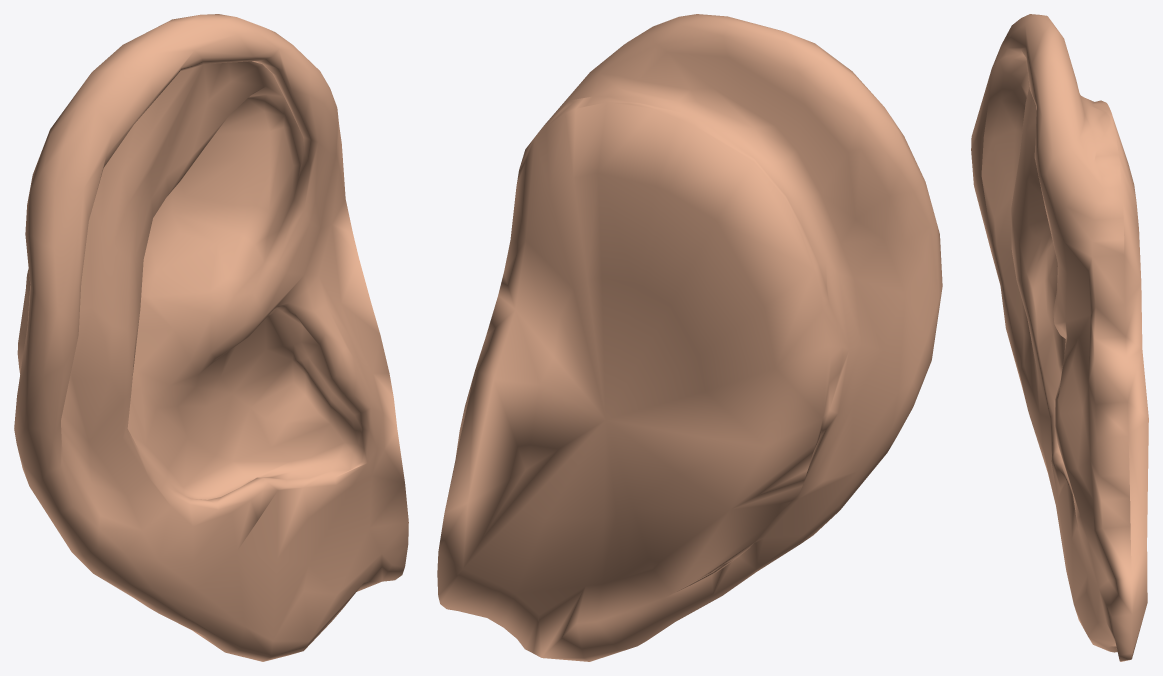
The model's file is orecchio.fbx.
3 renders of one model, left to right at view 1: azimuth 30°, elevation 25°; view 2: azimuth 150°, elevation 25°; view 3: azimuth 270°, elevation 25°, orthographic. The views are drawn at different scales.
Parts seen in each view (by area): view 1: EarPrintify_mesh; view 2: EarPrintify_mesh; view 3: EarPrintify_mesh.
Boxes of the visible parts, x1,y1,x2,y2 form: EarPrintify_mesh: (14,14,408,661); EarPrintify_mesh: (437,14,942,661); EarPrintify_mesh: (971,14,1148,661).
Bounding box in the file's own units: 16.63 × 24.06 × 6.94.
